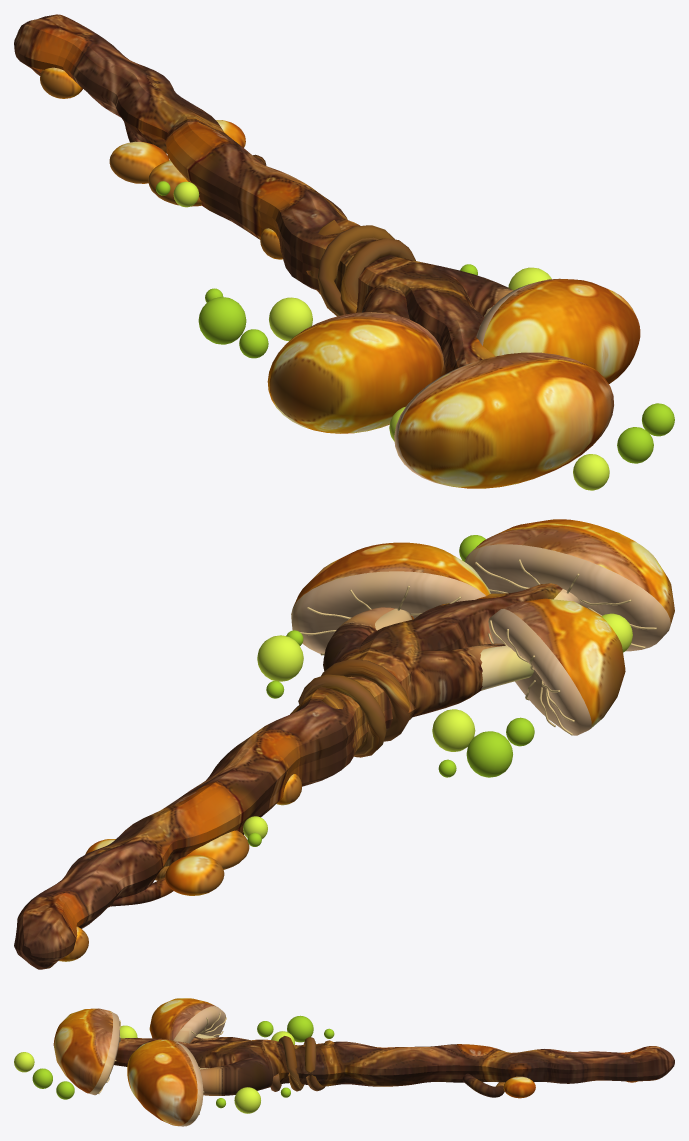
File: spore_staff.glb
3 renders of one model, top to bottom at view 1: azimuth 30°, elevation 25°; view 2: azimuth 150°, elevation 25°; view 3: azimuth 270°, elevation 25°, orthographic. The views are drawn at different scales.
Visible parts, largest first — view 1: spore_staff_game_mesh; view 2: spore_staff_game_mesh; view 3: spore_staff_game_mesh.
Boxes of the visible parts, <box> form: spore_staff_game_mesh: <box>14,14,674,490</box>; spore_staff_game_mesh: <box>14,519,674,969</box>; spore_staff_game_mesh: <box>14,998,674,1126</box>.
Size of the model in its own units: 0.5236 by 0.1756 by 1.59.
Materials: 1 (1 with a texture image).
